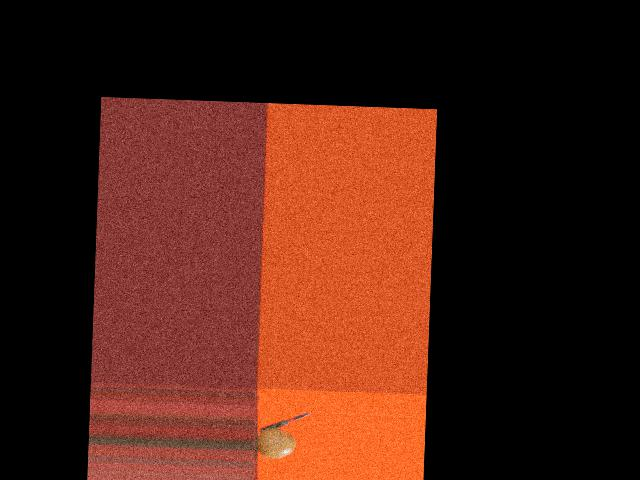egg: (256, 427, 295, 458)
